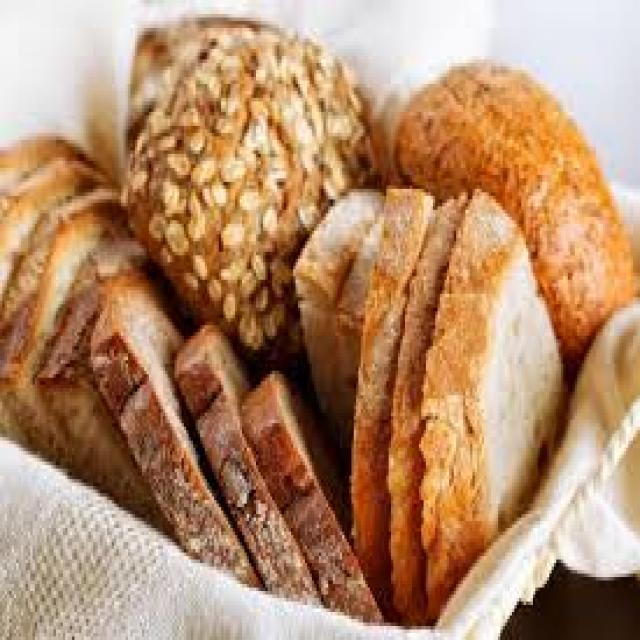organic waste: (124, 14, 386, 360), (391, 56, 638, 364), (419, 182, 563, 626), (86, 255, 263, 584), (0, 192, 156, 521), (170, 314, 319, 608), (35, 224, 172, 542), (344, 182, 433, 612), (386, 189, 470, 629), (240, 364, 379, 619), (293, 185, 382, 438), (0, 150, 116, 300), (338, 196, 388, 490), (0, 129, 109, 220)
